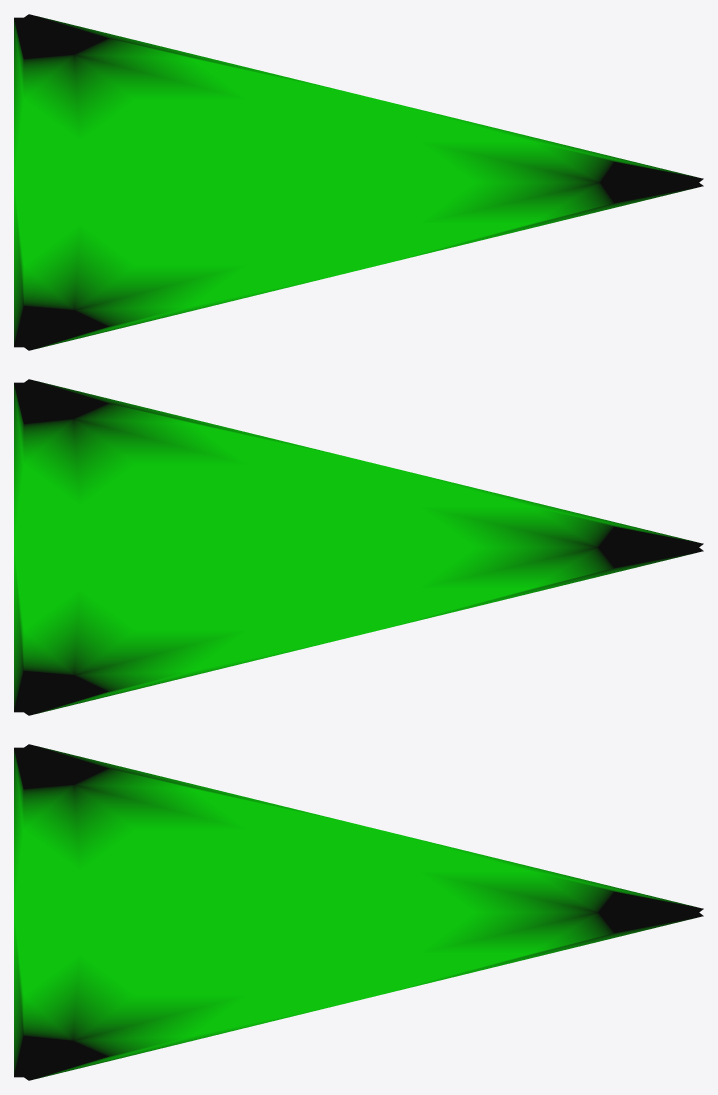
Rendered from Y_crossing.fbx.
The picture shows the model from 3 angles, top to bottom: view 1: azimuth 30°, elevation 25°; view 2: azimuth 150°, elevation 25°; view 3: azimuth 270°, elevation 25°; orthographic projection.
Visible parts, largest first — view 1: Y_crossing; view 2: Y_crossing; view 3: Y_crossing.
Boxes of the visible parts, x1=… form: Y_crossing: x1=14, y1=14, x2=703, y2=350; Y_crossing: x1=14, y1=379, x2=703, y2=715; Y_crossing: x1=14, y1=744, x2=703, y2=1080.
Bounding box in the file's own units: 818 × 1.46e-05 × 708.
